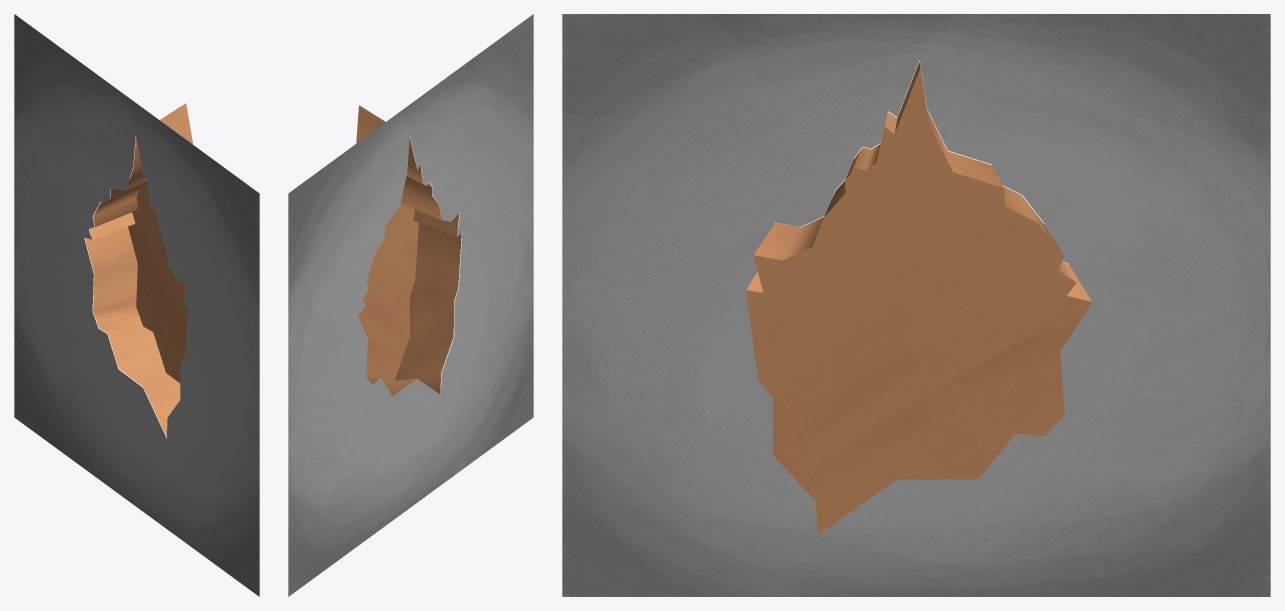
File: WallRoomBroken.fbx
The picture shows the model from 3 angles, left to right: view 1: azimuth 30°, elevation 25°; view 2: azimuth 150°, elevation 25°; view 3: azimuth 270°, elevation 25°; orthographic projection. The views are drawn at different scales.
Parts seen in each view (by area): view 1: Plane.004, Plane.002; view 2: Plane.004, Plane.002; view 3: Plane.004, Plane.002.
Boxes of the visible parts, x1=… form: Plane.004: x1=14, y1=14, x2=259, y2=596; Plane.002: x1=85, y1=103, x2=192, y2=437; Plane.004: x1=288, y1=14, x2=533, y2=596; Plane.002: x1=356, y1=105, x2=461, y2=396; Plane.004: x1=562, y1=14, x2=1270, y2=596; Plane.002: x1=746, y1=61, x2=1092, y2=535.
Bounding box in the file's own units: 0.5953 × 4.54 × 5.
